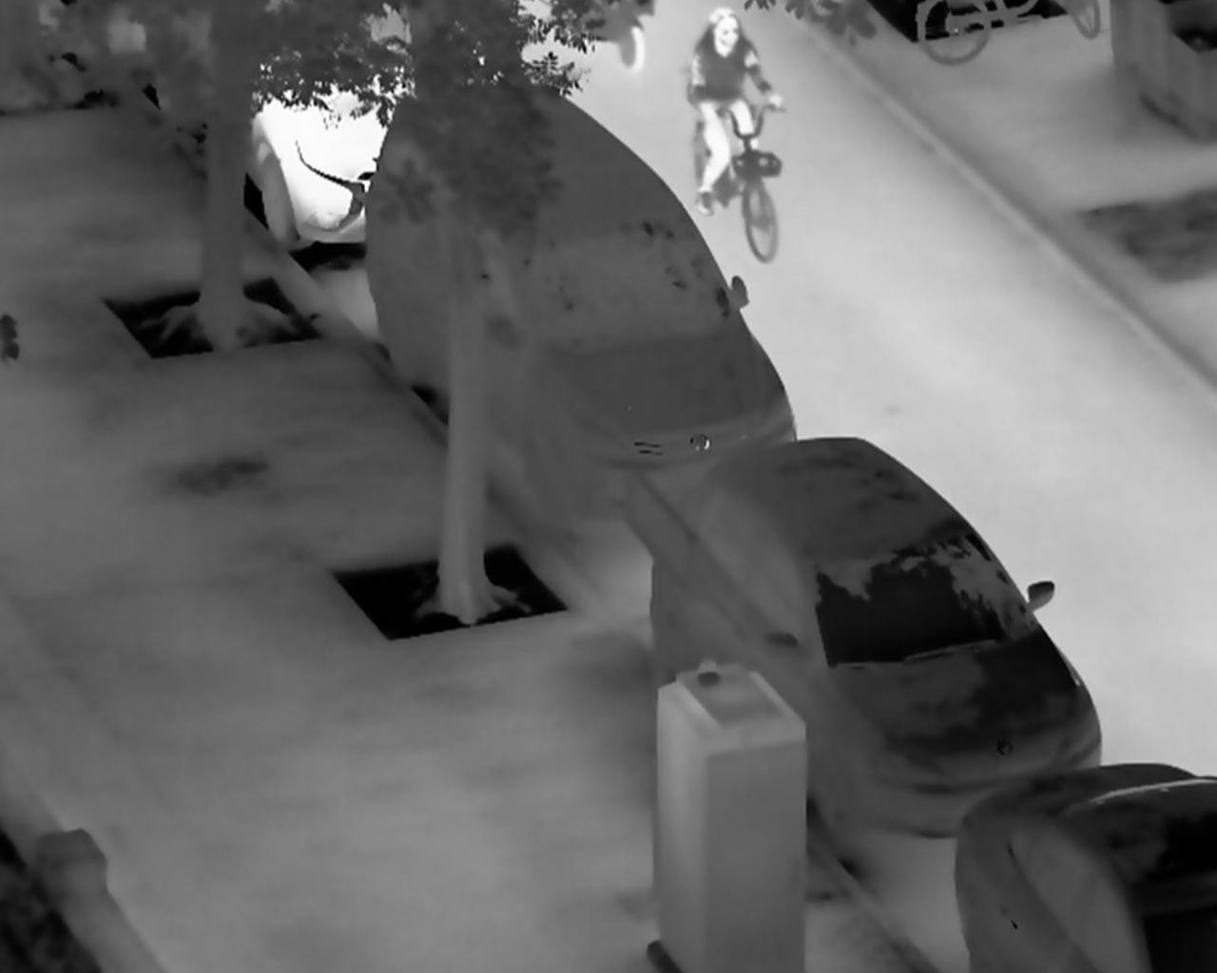person: (684, 6, 786, 219)
